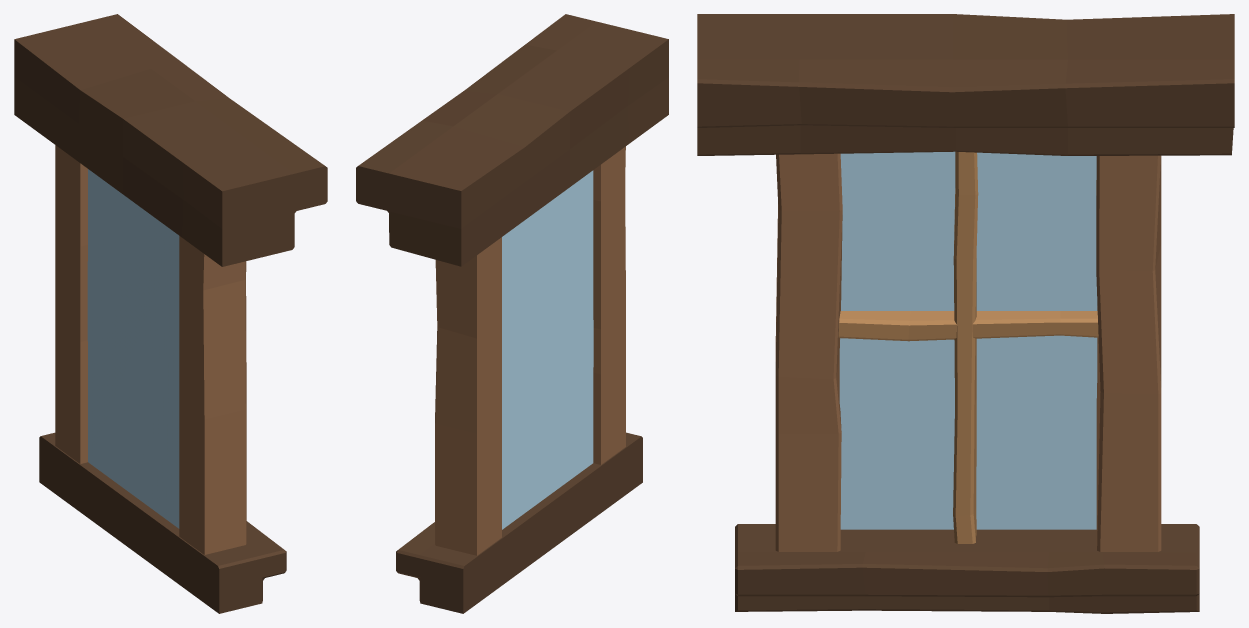
Rendered from window.fbx.
3 views of the same model, side by side, from view 1: azimuth 30°, elevation 25°; view 2: azimuth 150°, elevation 25°; view 3: azimuth 270°, elevation 25° (orthographic). The views are drawn at different scales.
Visible parts, largest first — view 1: Cube.001, Plane, Cube.002, Cube, Cube.003; view 2: Cube.001, Plane, Cube.003, Cube, Cube.002; view 3: Plane, Cube.001, Cube, Cube.002, Cube.003, Cube.005, Cube.004.
Part boxes in pixels (x1,y1,x2,y2): Cube.001: (14,14,327,266); Plane: (87,169,179,528); Cube.002: (179,236,246,554); Cube: (39,432,286,613); Cube.003: (55,145,87,463); Cube.001: (356,14,668,266); Plane: (502,170,593,529); Cube.003: (435,237,501,555); Cube: (396,432,642,613); Cube.002: (593,146,625,464); Plane: (839,151,1097,529); Cube.001: (697,14,1234,155); Cube: (735,524,1199,613); Cube.002: (775,153,842,551); Cube.003: (1096,155,1161,551); Cube.005: (953,151,978,543); Cube.004: (838,311,1098,341).
Size of the model in its own units: 29.98 by 116 by 99.58.
